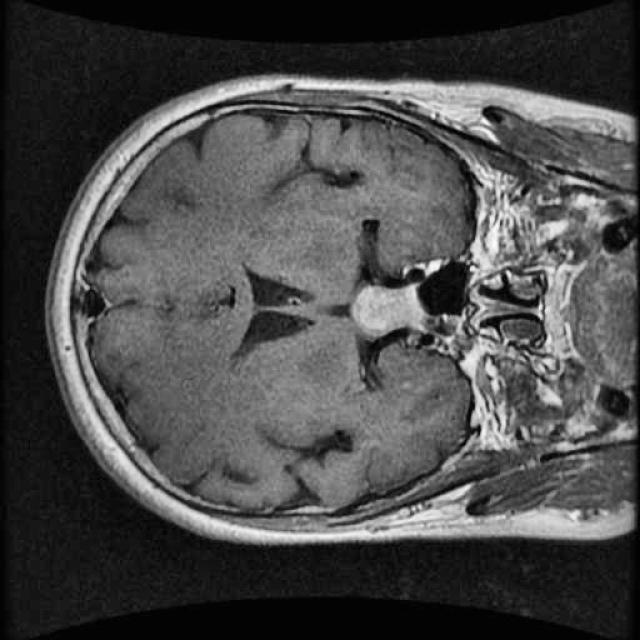Tumor: (341, 272, 445, 354)
